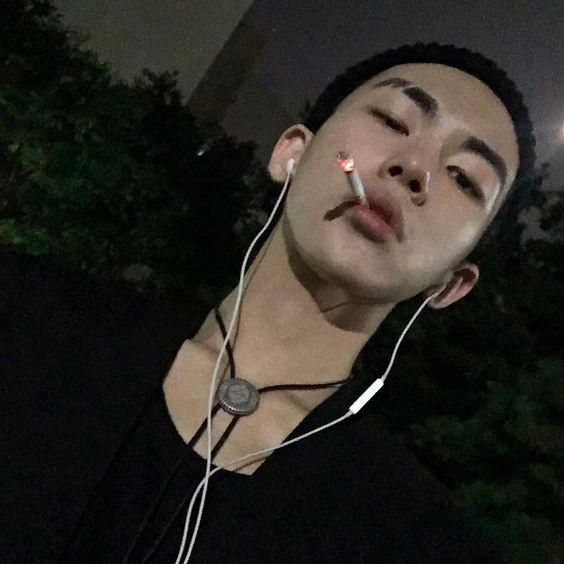cigarette: (336, 151, 369, 209)
